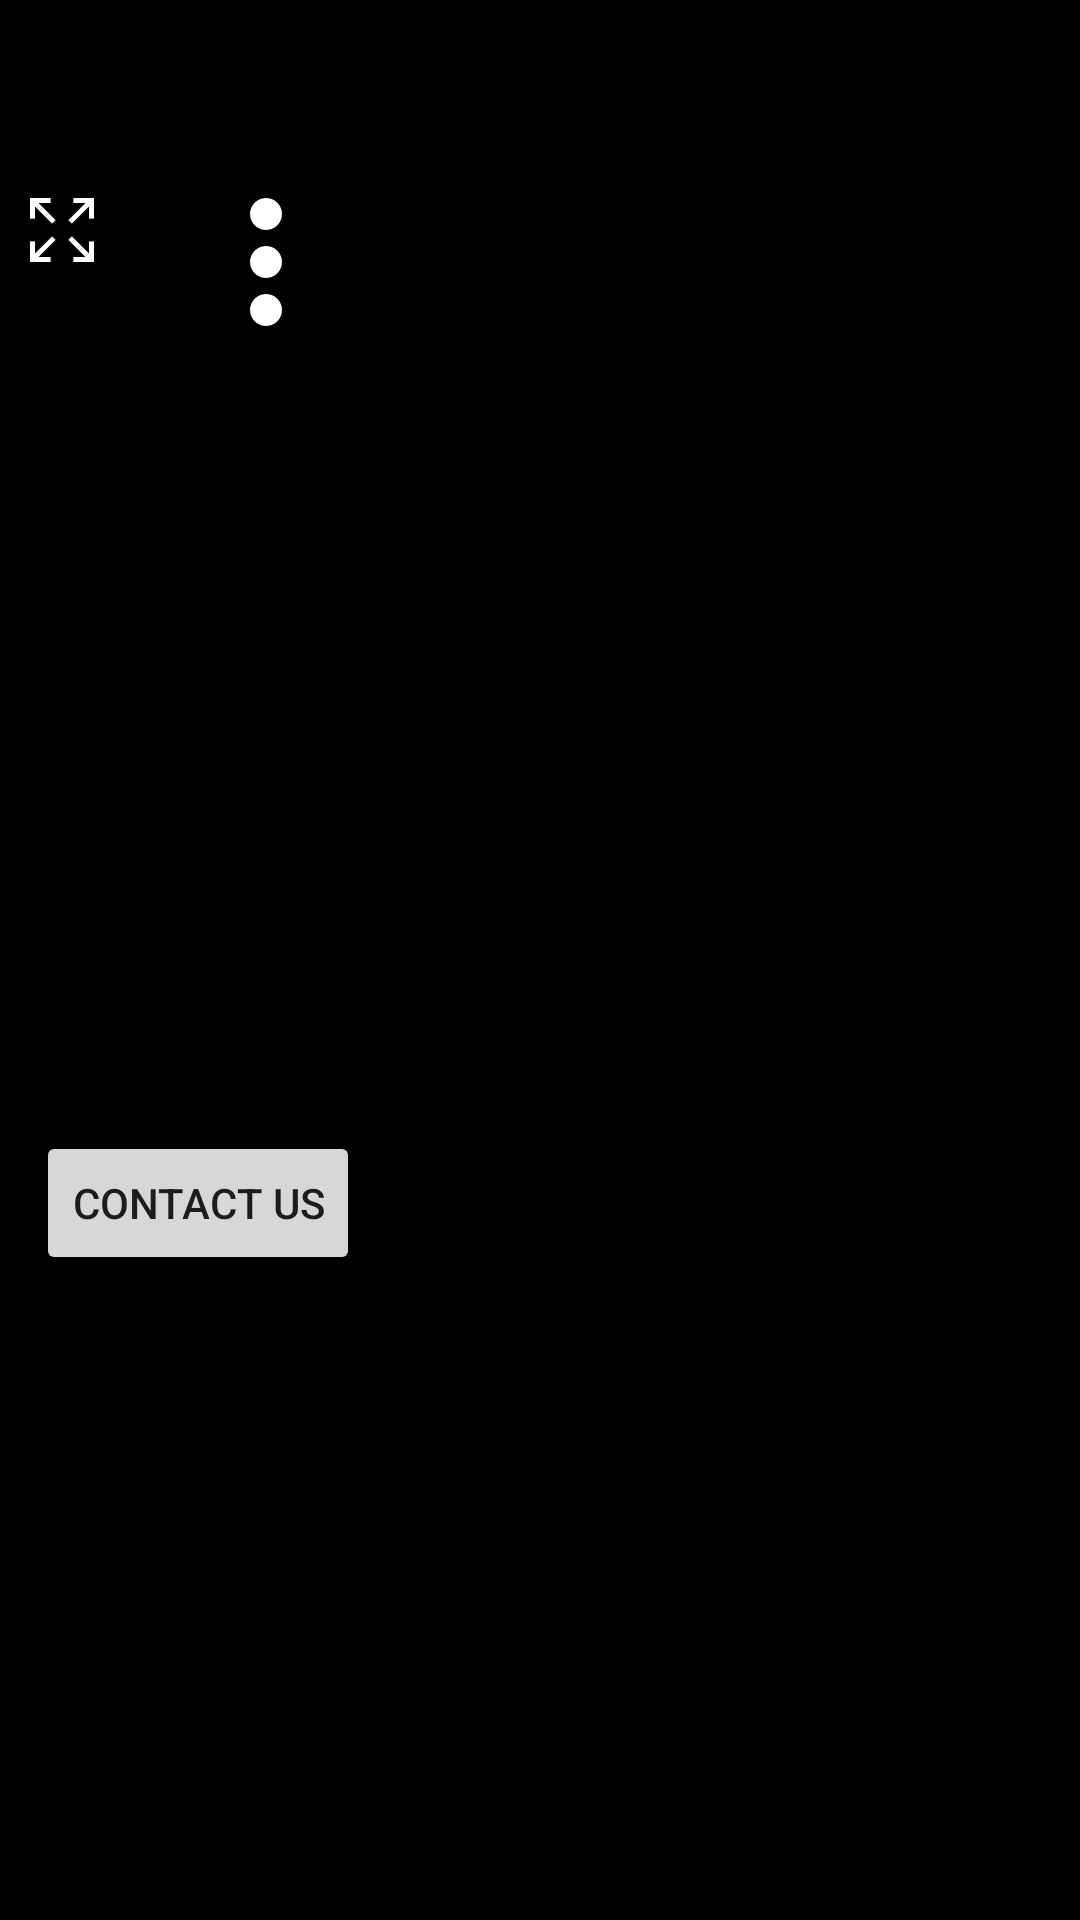

Named icons in this screenshot (1080x1920) and their centers, (x,y):
expand: (62,230)
